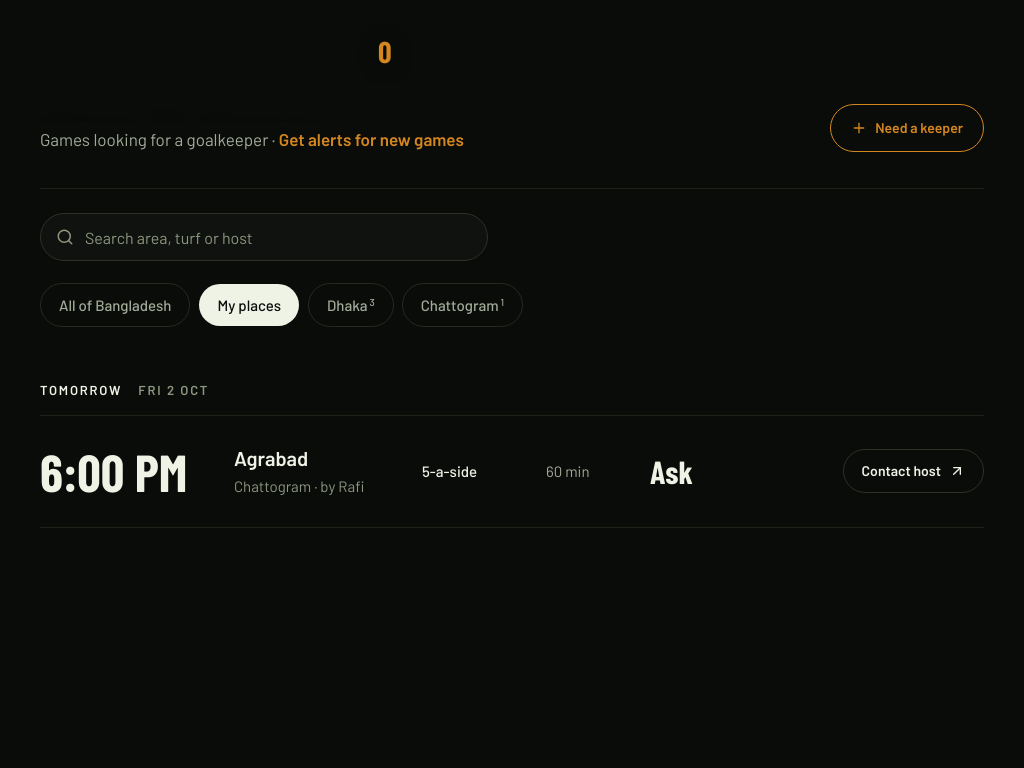
Test: Feed with a keeper profile › opens on the keeper's areas
Expected: the text "7:30 PM" is not shown
Expected: the text "6:00 PM" is shown, left=40, top=445, right=210, bottom=497
Click the button "All of Bangladesh": (115, 305) left=40, top=283, right=190, bottom=327
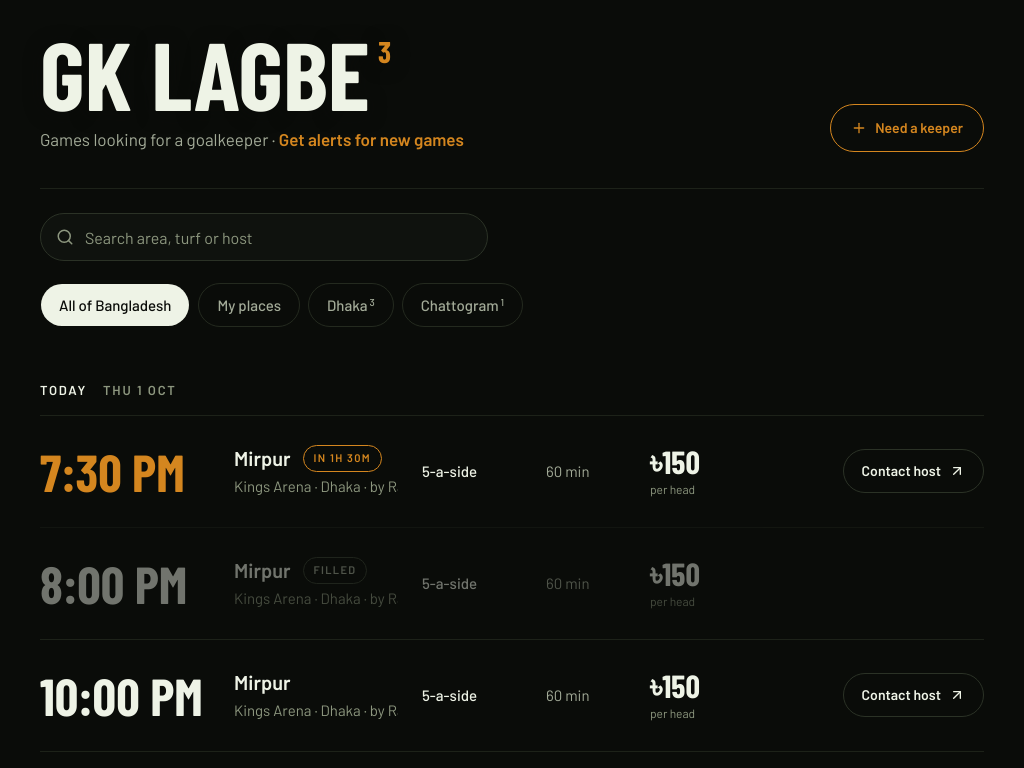
Now the text "7:30 PM" is shown, box left=40, top=445, right=210, bottom=497
